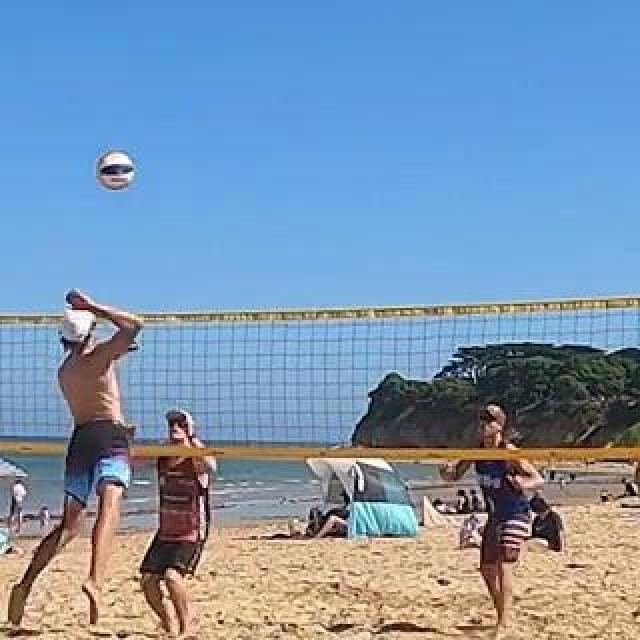volleyball: (98, 152, 134, 190)
